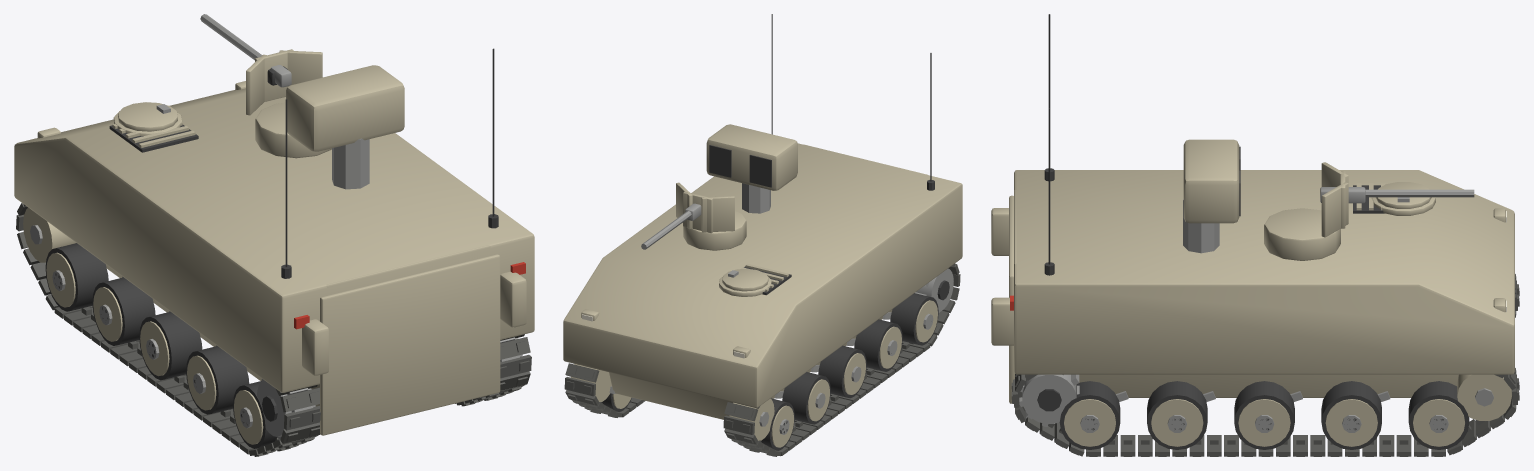
The model's file is usa_td_itv.glb.
3 renders of one model, left to right at view 1: azimuth 30°, elevation 25°; view 2: azimuth 150°, elevation 25°; view 3: azimuth 270°, elevation 25°, orthographic. The views are drawn at different scales.
Visible parts, largest first — view 1: body, barrel, turret; view 2: body, barrel, turret; view 3: body, barrel, turret.
Part boxes in pixels (x1,y1,x2,y2): body: [14, 48, 534, 456]; barrel: [200, 14, 404, 151]; turret: [246, 49, 369, 189]; body: [563, 14, 962, 456]; barrel: [641, 124, 797, 249]; turret: [676, 182, 770, 233]; body: [991, 14, 1519, 456]; barrel: [1183, 139, 1474, 223]; turret: [1183, 162, 1348, 253].
Bounding box in the file's own units: 2.7 × 3.72 × 5.22.
